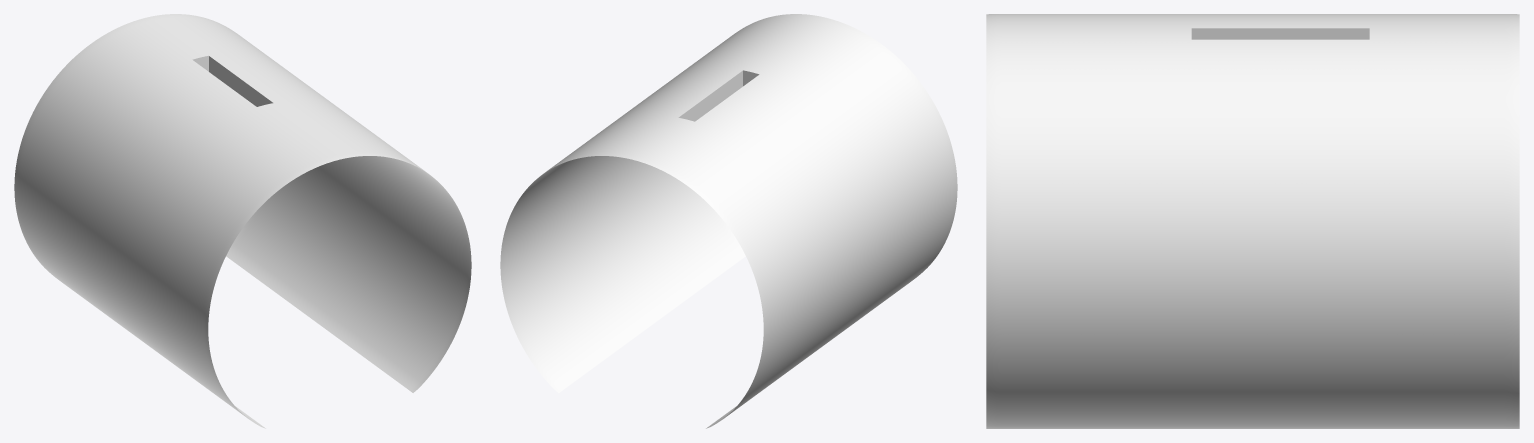
File: pug.glb
3 renders of one model, left to right at view 1: azimuth 30°, elevation 25°; view 2: azimuth 150°, elevation 25°; view 3: azimuth 270°, elevation 25°, orthographic. The views are drawn at different scales.
Visible parts, largest first — view 1: pug_image_texture; view 2: pug_image_texture; view 3: pug_image_texture.
Boxes of the visible parts, x1,y1,x2,y2 form: pug_image_texture: (14,14,471,428); pug_image_texture: (500,14,957,428); pug_image_texture: (986,14,1519,428).
Size of the model in its own units: 4 by 3.65 by 5.1.
1 material, 1 textured.
